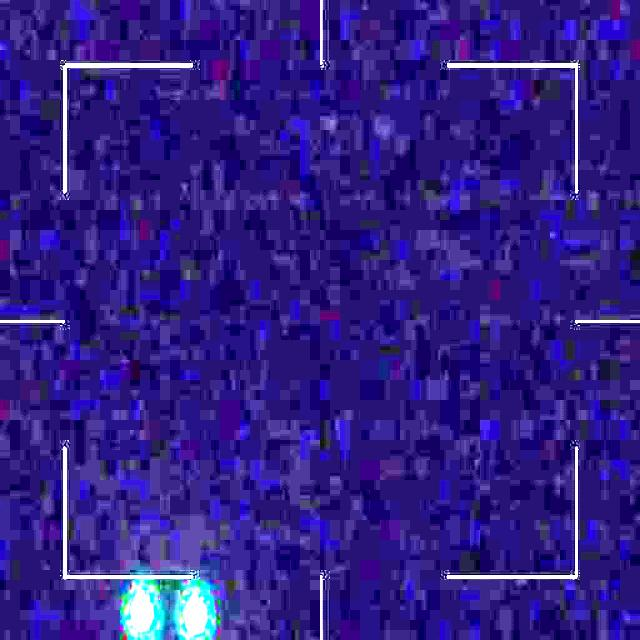bird: (125, 586, 210, 638)
